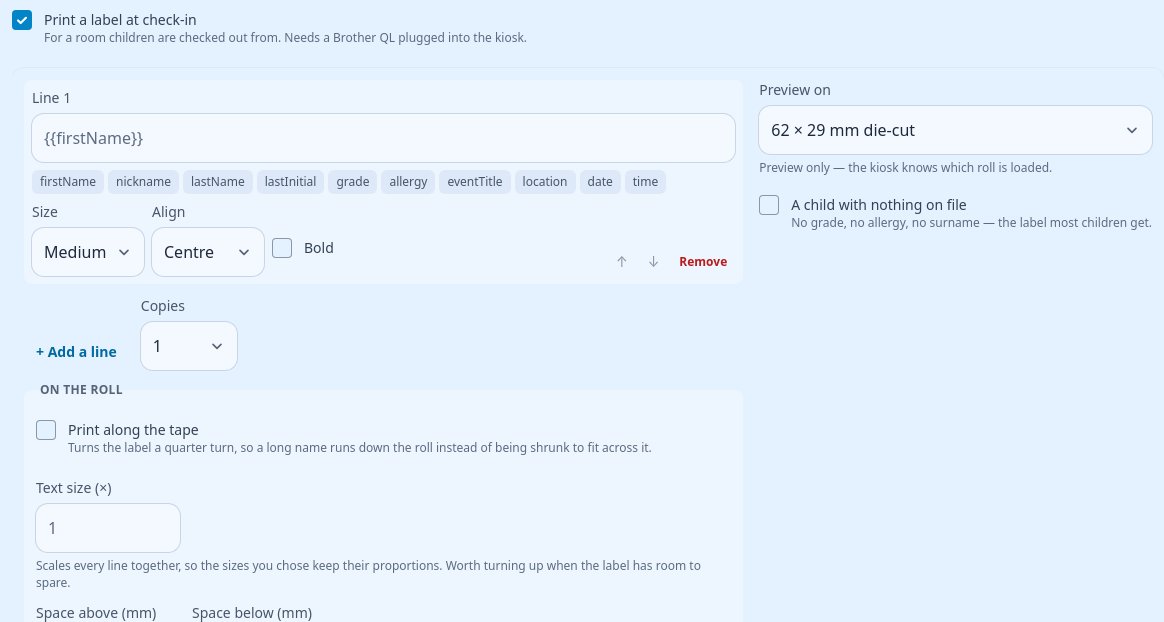
Test: a line that would print its caption alone › says so when a token is not one Tally knows
Click the field labelled "Line 1" at x=384, y=138, box [32, 114, 735, 162]
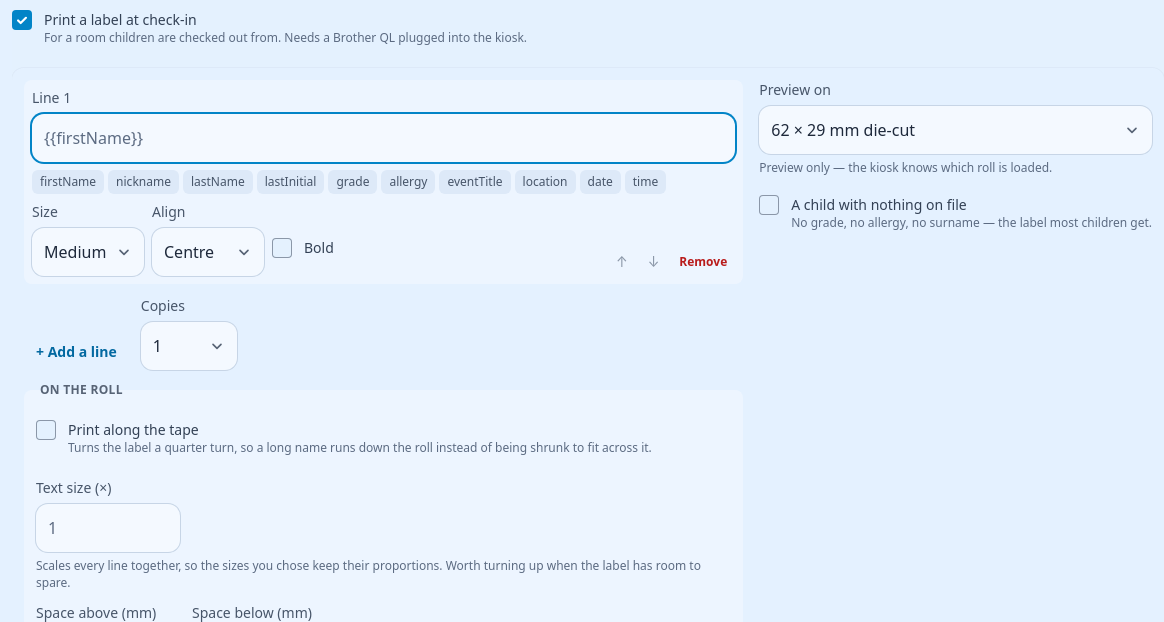
Type keys "{{allergies}}"
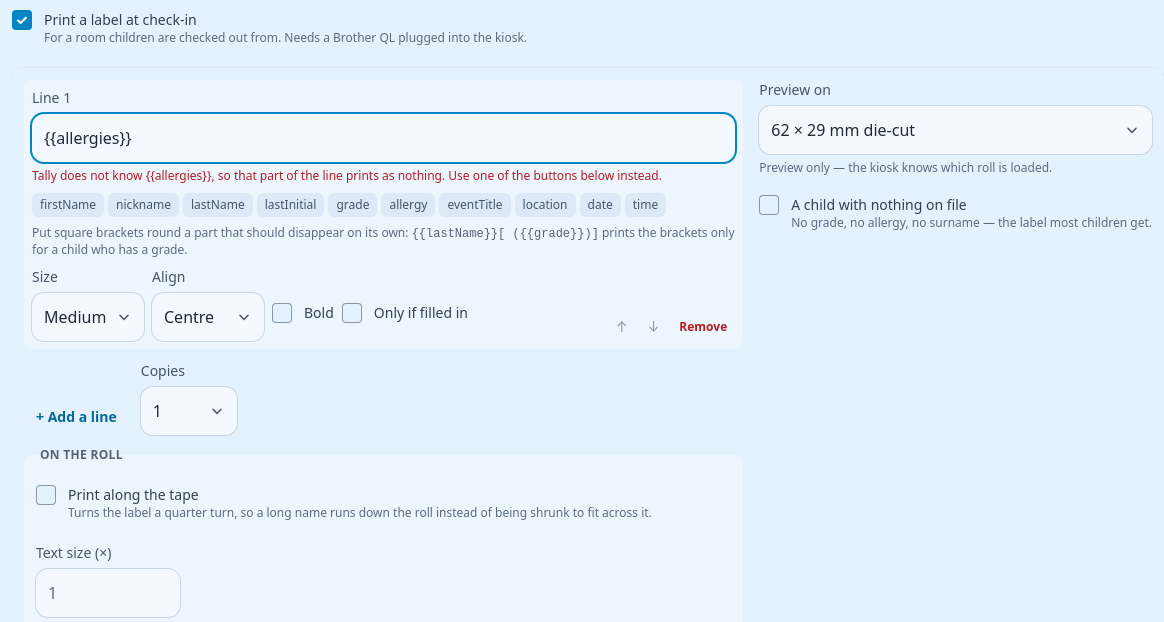
Expected: the text "does not know {{allergies}}" is shown, [32, 167, 662, 184]
